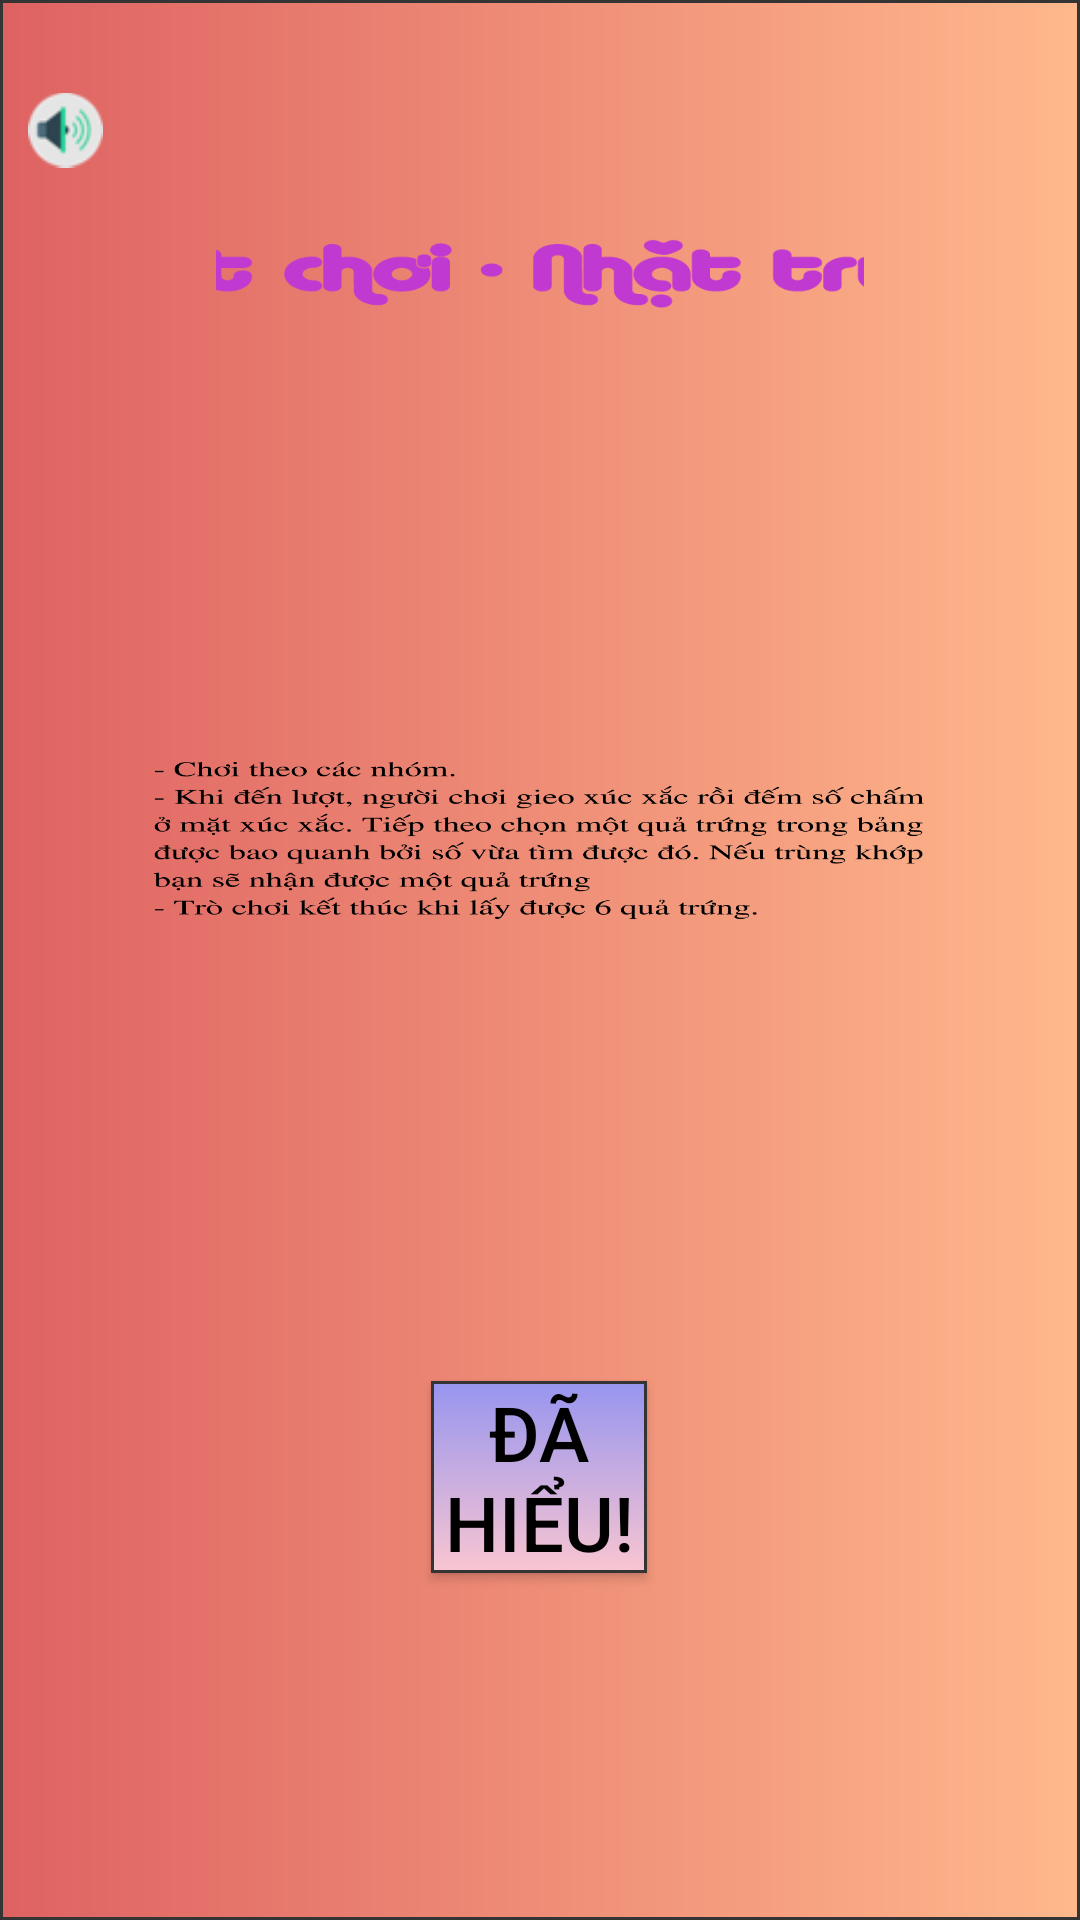

Named icons in this screenshot (1080 × 1920) and their bounding boxes, (x1, y1, x2, y2):
sound on: (28, 93, 103, 168)
